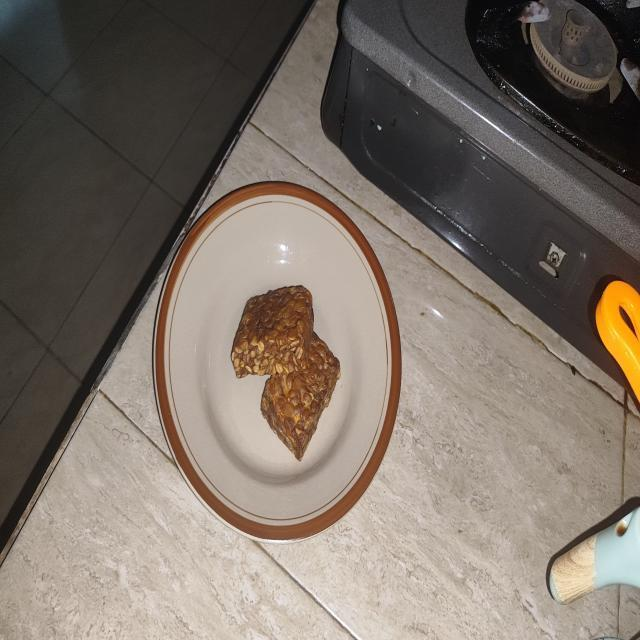tempe_goreng: (261, 332, 340, 461), (232, 286, 314, 378)
